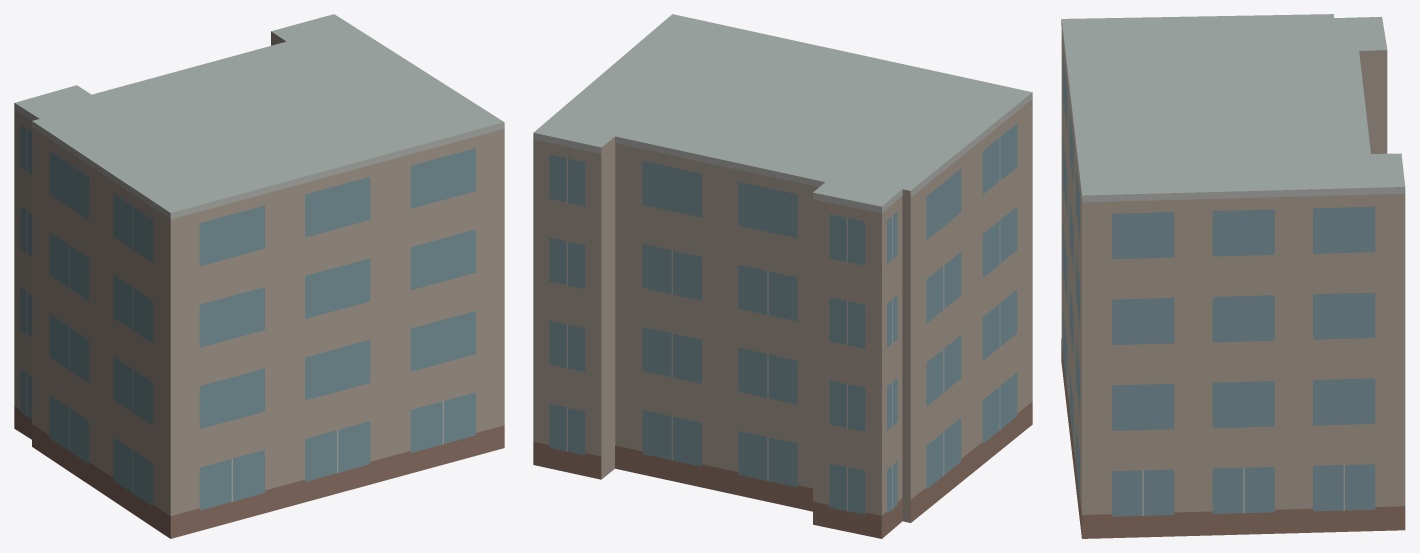
Rendered from survey-upis-33016806.glb.
3 renders of one model, left to right at view 1: azimuth 30°, elevation 25°; view 2: azimuth 150°, elevation 25°; view 3: azimuth 270°, elevation 25°, orthographic. The views are drawn at different scales.
Visible parts, largest first — view 1: survey-upis-33016806.tmp; view 2: survey-upis-33016806.tmp; view 3: survey-upis-33016806.tmp.
Boxes of the visible parts, x1=… form: survey-upis-33016806.tmp: x1=14, y1=14, x2=504, y2=538; survey-upis-33016806.tmp: x1=533, y1=14, x2=1032, y2=538; survey-upis-33016806.tmp: x1=1061, y1=14, x2=1405, y2=538.
Size of the model in its own units: 13.85 by 12.2 by 11.08.
